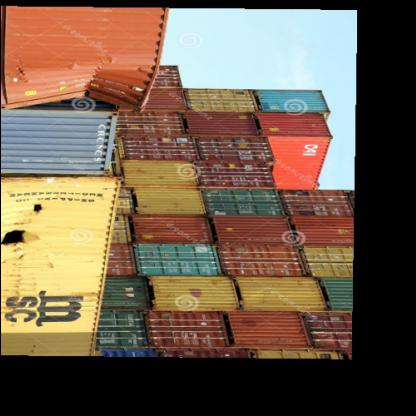Damage: (51, 72, 139, 119), (4, 196, 54, 264)
